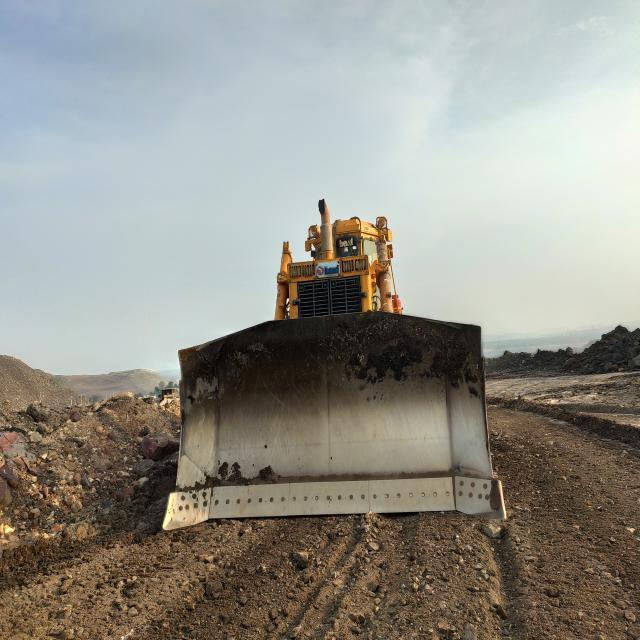buldozerpayloadergrader: (164, 200, 505, 530)
